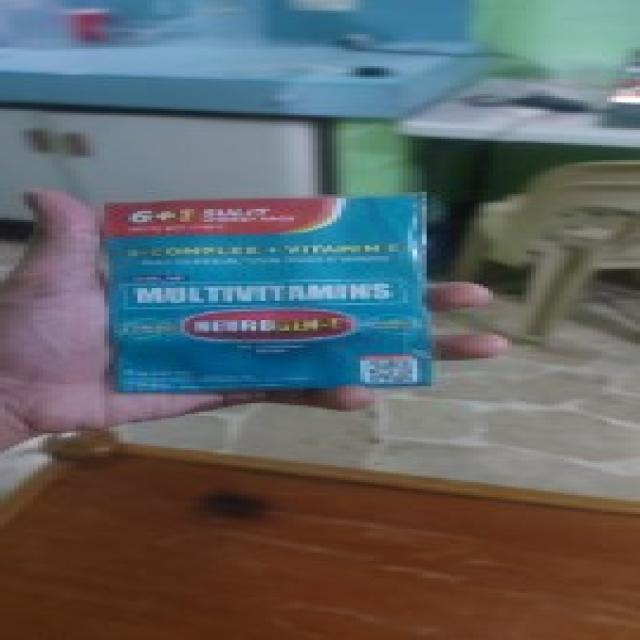Cacat: (100, 193, 443, 391)
